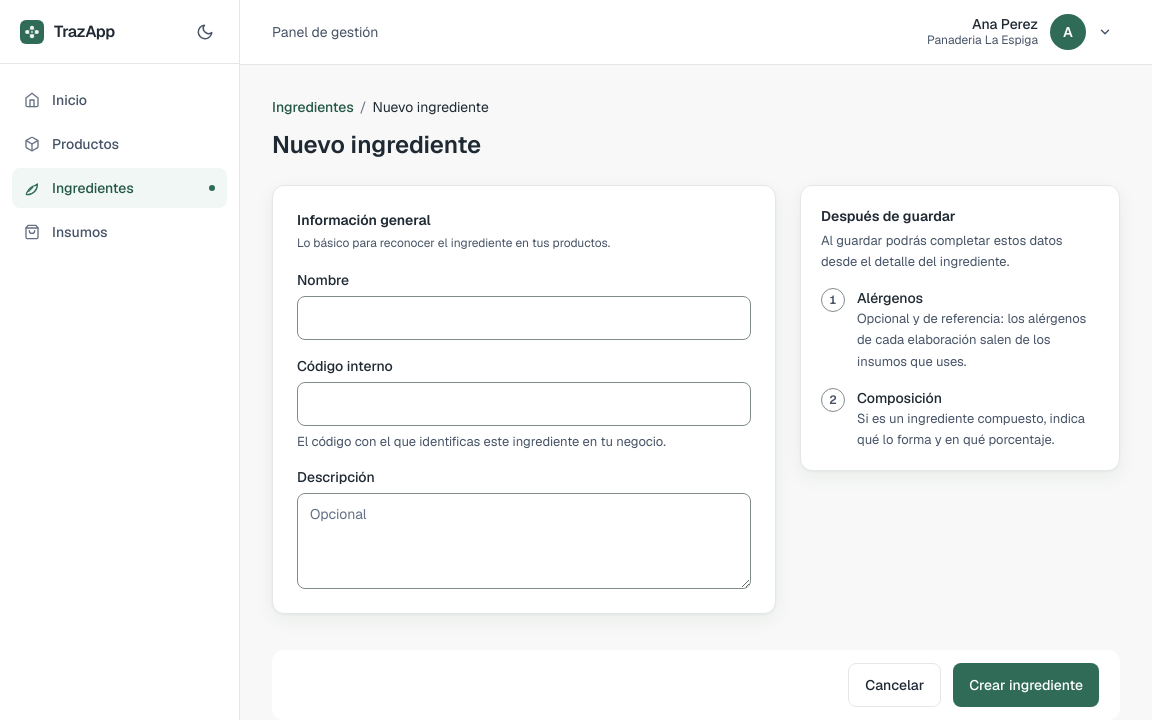
Test case: Crear ingrediente: próximos pasos › tras crear, el aviso ofrece ir a declarar alérgenos y composición
Expected: the heading "Nuevo ingrediente" is shown, [272,129,481,161]
Step 1. Type "Azúcar" into the field labelled "Nombre" → (524, 318), box [297,296,751,340]
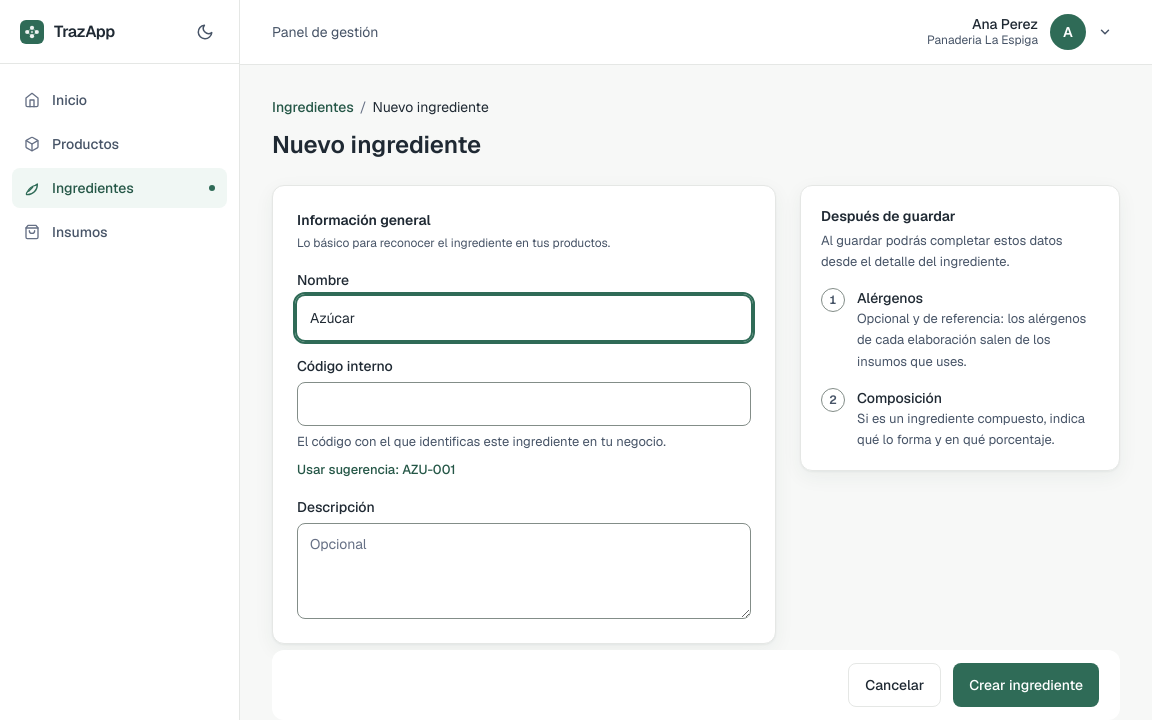
Step 2. Click the button "Usar sugerencia: AZU-001" → (376, 470), box [297,460,456,480]
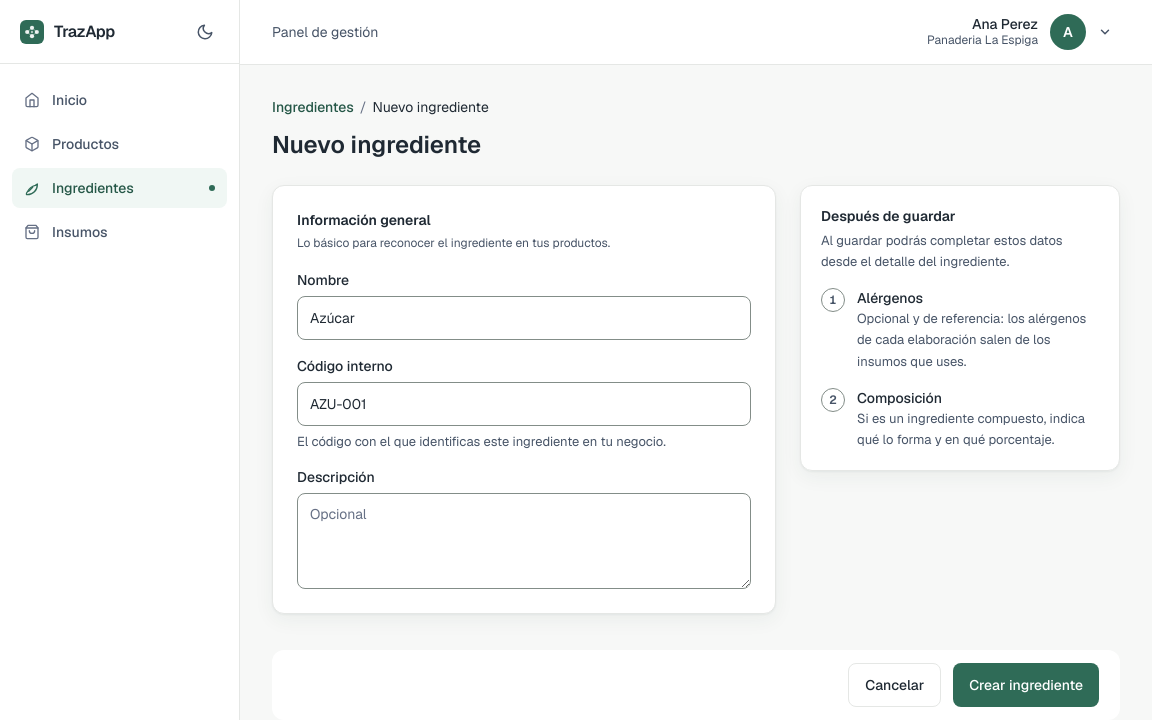
Step 3. Click the button "Crear ingrediente" → (1026, 685), box [953,663,1099,707]
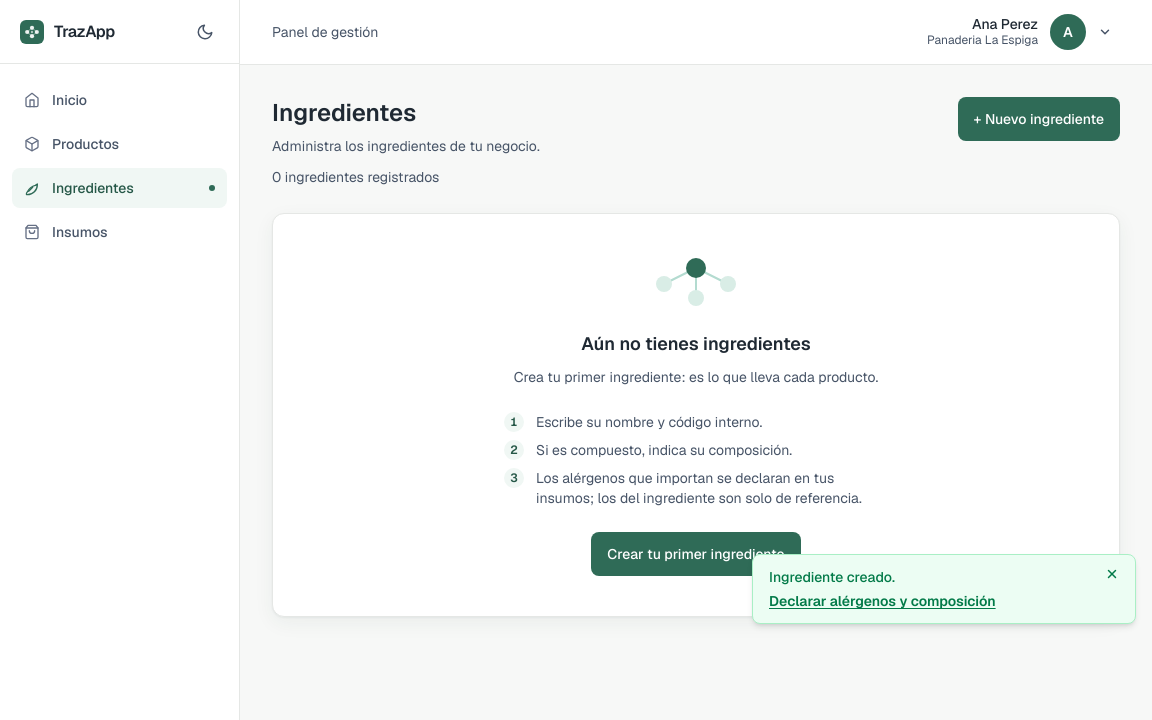
Result: the text "Ingrediente creado." is shown at [769,568,895,586]
